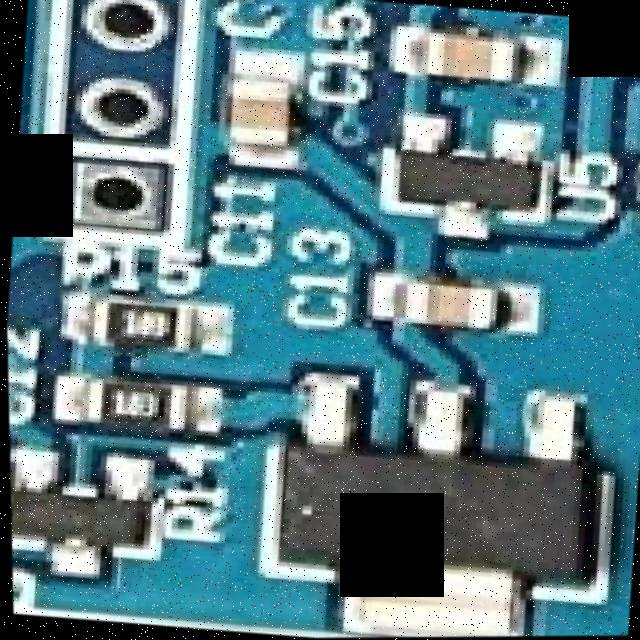4439: (374, 112, 563, 244), (8, 440, 170, 580)
IC: (237, 359, 621, 639)
capacitor 1V5: (404, 29, 541, 87), (221, 67, 304, 162), (382, 277, 513, 337)
resistor IR1: (74, 374, 200, 436), (80, 299, 199, 354)
